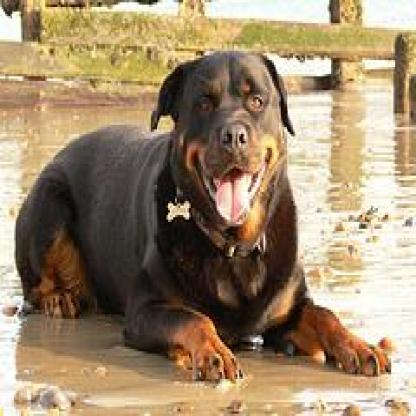Rottweiler: (12, 49, 390, 374)
